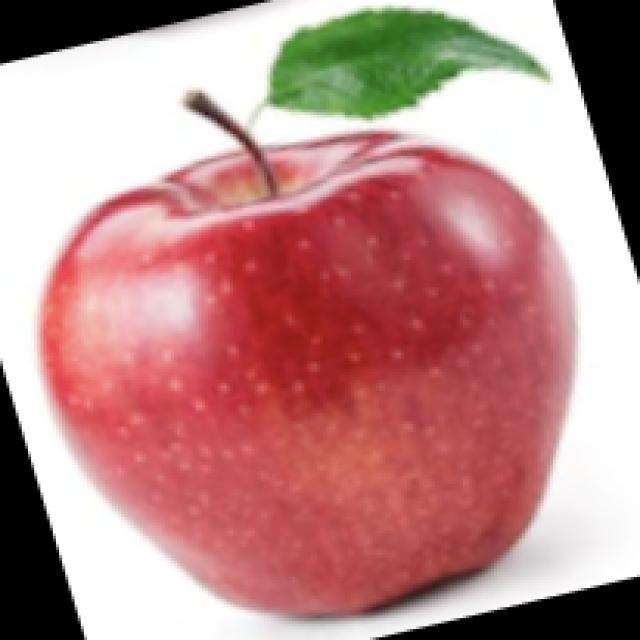Fresh Apple: (50, 133, 577, 617)
